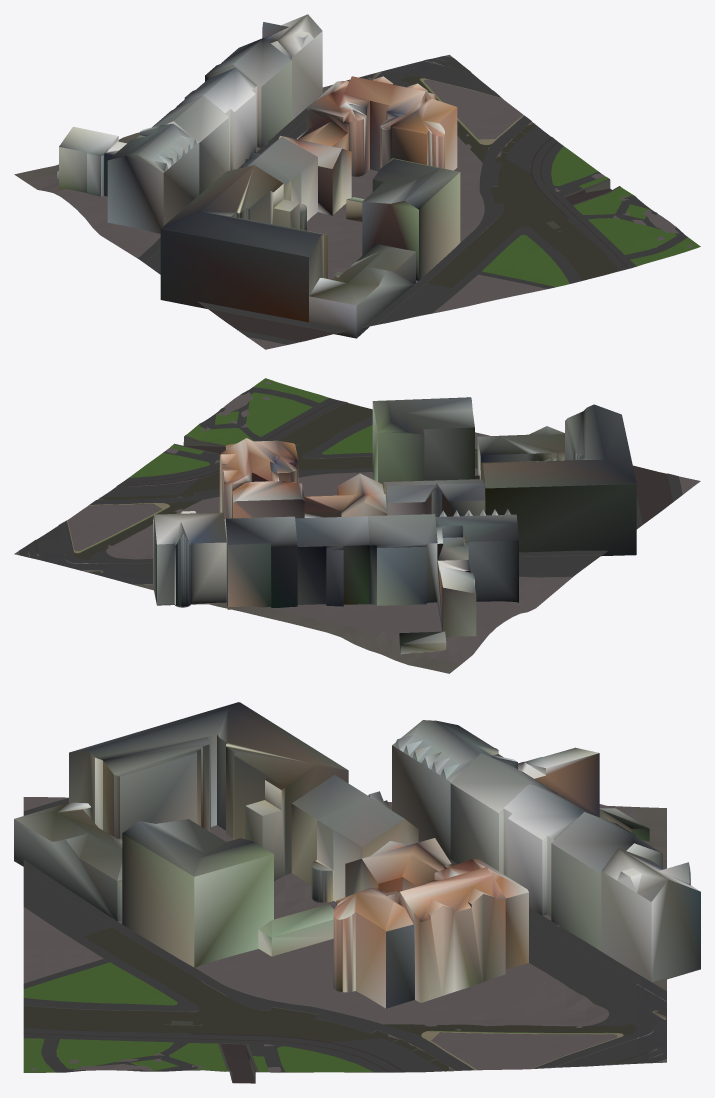
3 views of the same model, one above another, from view 1: azimuth 30°, elevation 25°; view 2: azimuth 150°, elevation 25°; view 3: azimuth 270°, elevation 25° (orthographic). The views are drawn at different scales.
Parts seen in each view (by area): view 1: c_m05_p06; view 2: c_m05_p06; view 3: c_m05_p06.
Boxes of the visible parts, <box> form: c_m05_p06: <box>14,14,700,349</box>; c_m05_p06: <box>14,378,700,673</box>; c_m05_p06: <box>14,702,700,1083</box>.
Size of the model in its own units: 134 by 25.62 by 137.
